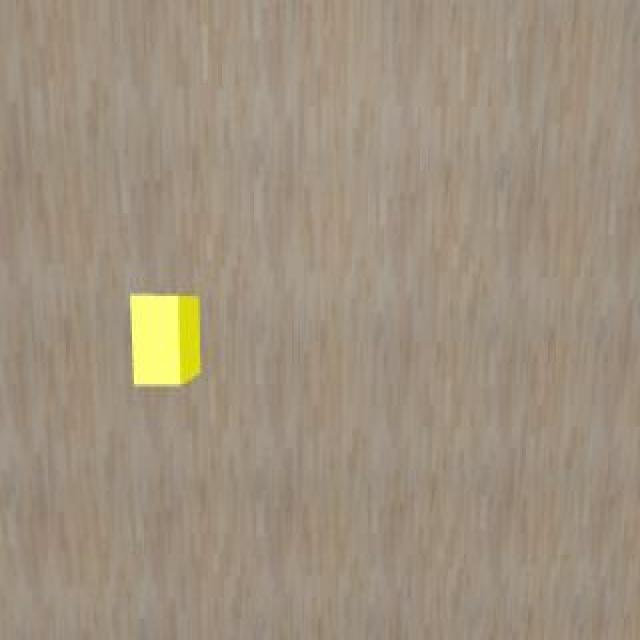cube-cAb5: (129, 290, 202, 388)
